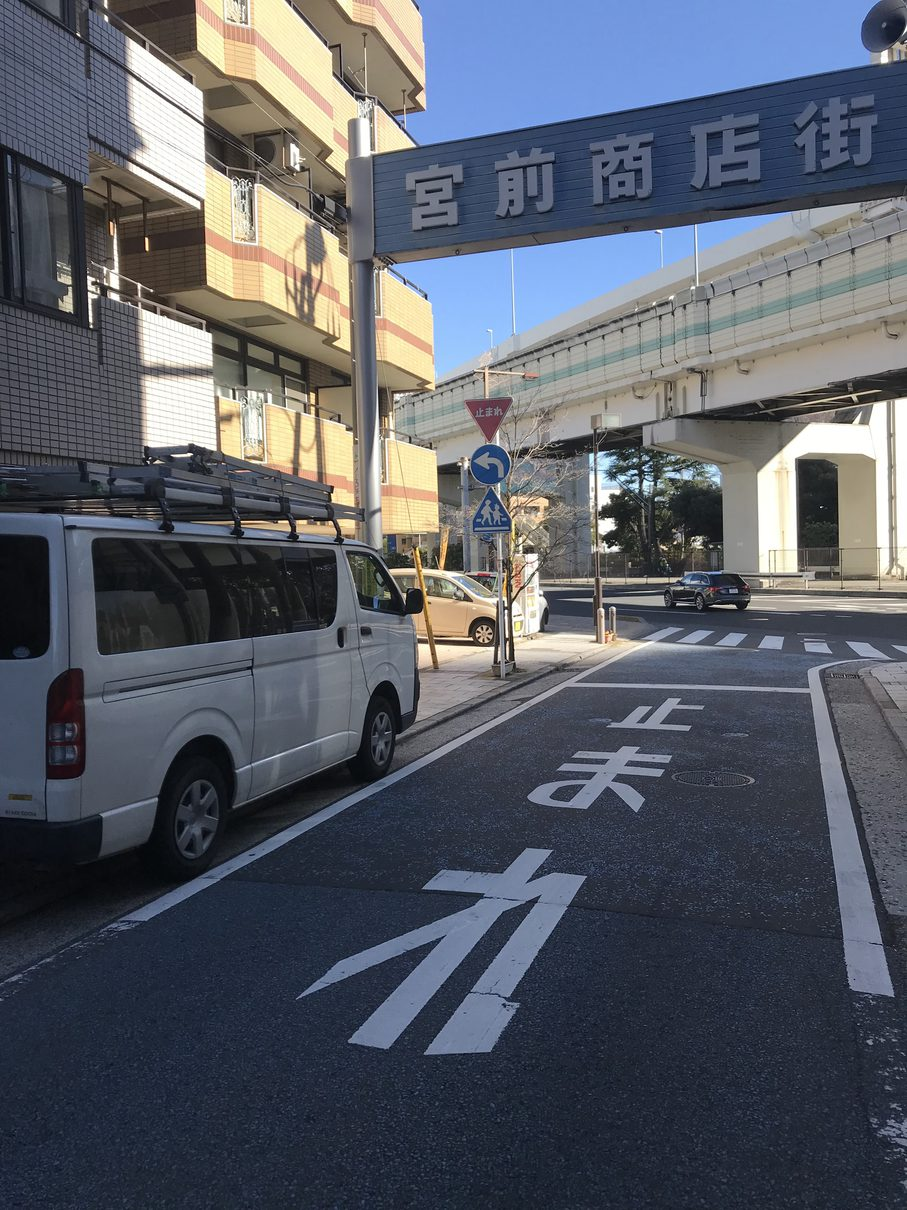stop_sign: (462, 396, 513, 443)
